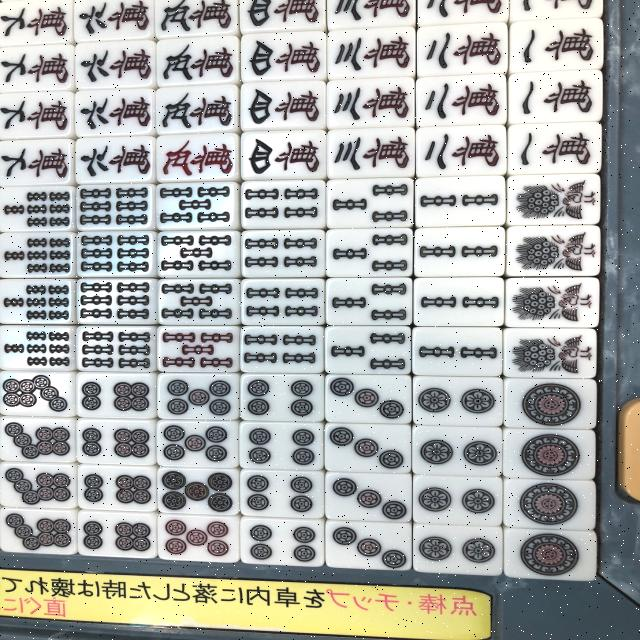bamboos_1: (504, 225, 602, 279), (502, 327, 600, 381), (506, 277, 602, 331), (506, 174, 603, 227)
bamboos_2: (415, 222, 507, 279), (414, 274, 506, 331), (412, 323, 505, 379), (415, 172, 507, 228)
bamboos_3: (325, 176, 417, 229), (324, 226, 415, 279), (322, 324, 413, 377), (321, 276, 413, 328)
bamboos_4: (239, 178, 326, 230), (239, 228, 326, 280), (240, 326, 328, 377), (238, 276, 324, 328)
bamboos_5: (157, 324, 241, 374), (157, 229, 241, 278), (156, 277, 240, 326), (156, 179, 240, 228)
bamboos_6: (76, 326, 156, 373), (76, 232, 156, 278), (76, 183, 154, 230), (77, 278, 156, 324)
bamboos_7: (0, 232, 74, 278), (0, 324, 74, 370), (1, 187, 75, 231), (0, 280, 74, 324)
characters_1: (506, 18, 606, 72), (506, 70, 604, 124), (506, 123, 604, 176)
characters_2: (415, 21, 508, 78), (415, 122, 507, 179), (414, 73, 507, 129)
characters_3: (323, 126, 415, 180), (326, 78, 417, 126), (328, 28, 419, 76)
characters_4: (239, 79, 326, 132), (238, 30, 326, 82), (238, 130, 324, 182)
characters_5: (156, 38, 240, 85), (158, 86, 241, 133), (156, 134, 239, 180)
characters_6: (74, 136, 156, 183), (74, 88, 156, 135), (74, 41, 155, 88)
characters_7: (0, 46, 74, 92), (0, 94, 74, 139), (1, 142, 75, 187)
circles_1: (502, 427, 600, 481), (504, 478, 601, 532), (504, 529, 602, 582), (502, 378, 599, 431)
circles_2: (411, 373, 504, 429), (411, 525, 503, 576), (410, 426, 502, 476), (411, 475, 503, 525)
circles_3: (324, 472, 410, 522), (324, 424, 410, 473), (324, 375, 410, 423), (324, 522, 410, 570)
circles_4: (239, 374, 326, 422), (237, 469, 324, 517), (238, 518, 326, 565), (238, 422, 324, 469)
circles_5: (157, 372, 238, 420), (156, 420, 237, 468), (158, 468, 239, 516), (158, 516, 239, 562)
circles_6: (75, 418, 159, 465), (75, 372, 158, 419), (75, 465, 158, 512), (76, 512, 160, 558)
circles_7: (2, 462, 76, 508), (0, 373, 74, 418), (0, 417, 74, 462), (2, 510, 76, 554)
